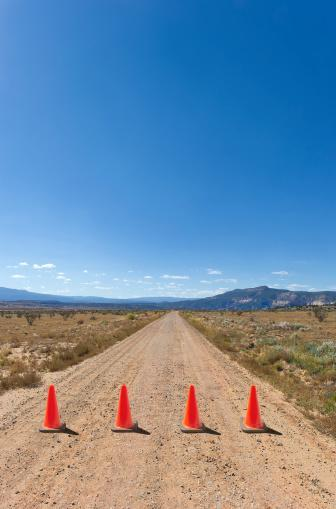Cone: (240, 385, 267, 433), (41, 384, 68, 431), (112, 384, 138, 430), (180, 385, 206, 431)
